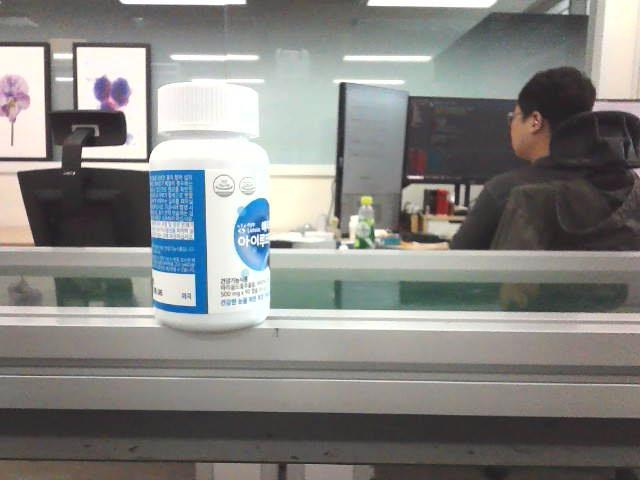labeled: (143, 78, 275, 335)
